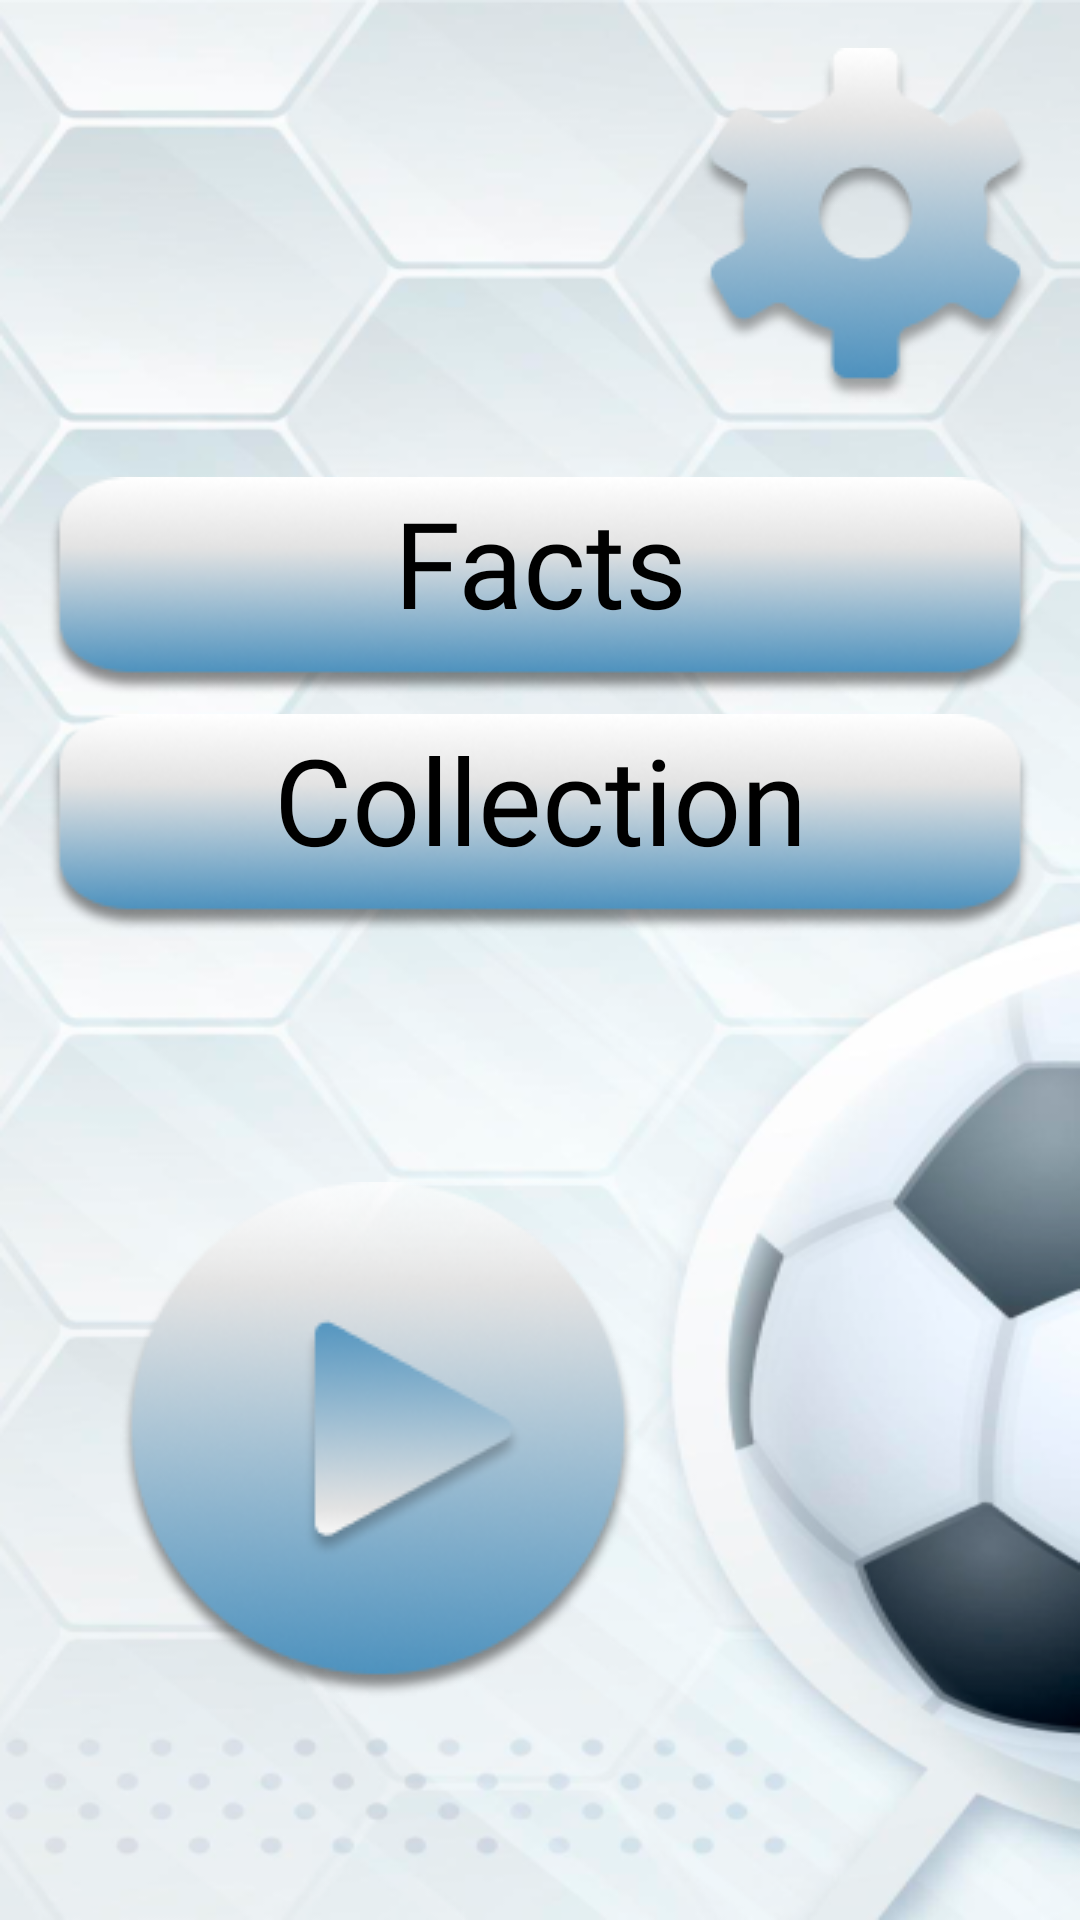

Named icons in this screenshot (1080px×1920px) and their centers, (x,y):
setting: (864,236)
